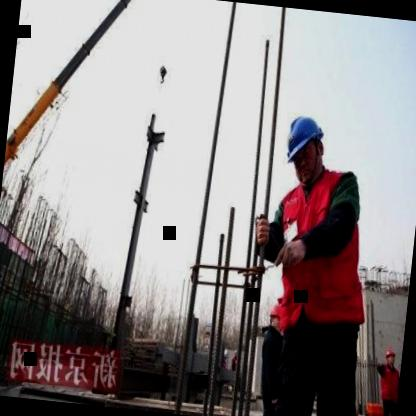helmet: (277, 106, 333, 192), (266, 300, 288, 332), (382, 344, 398, 369)
